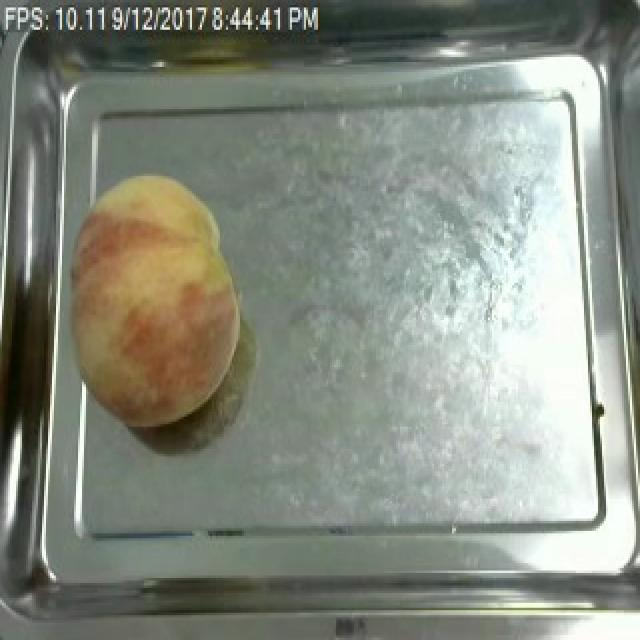Fruit: (40, 166, 252, 437)
